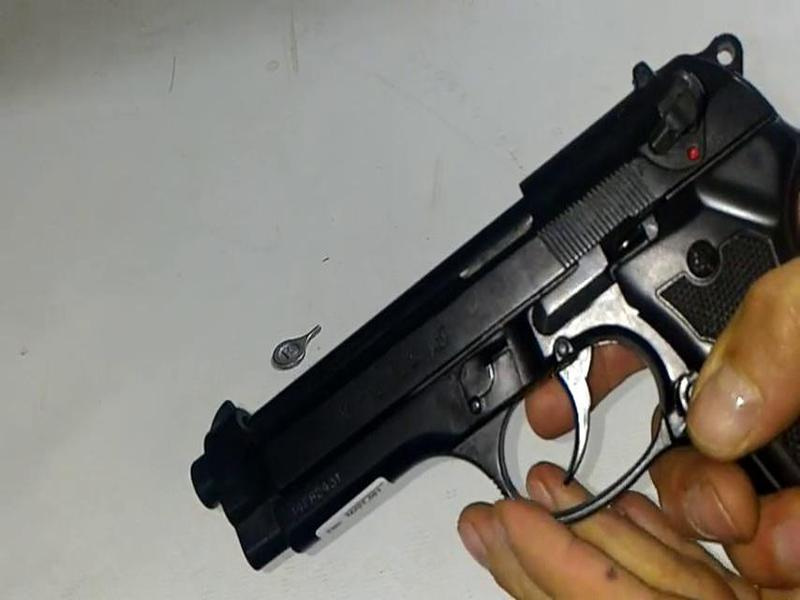Pistola: (126, 27, 800, 510)
